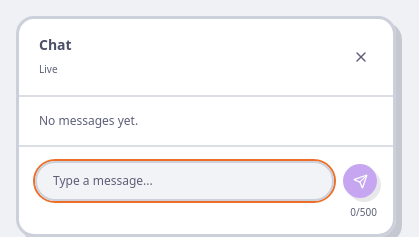
GroupChatOverlay › limits chat messages to the backend character limit
Expected: the text "0/500" is shown, [350,205,377,219]
Type "hello" into the field named "Chat message" at (184, 181), box [35,161,334,201]
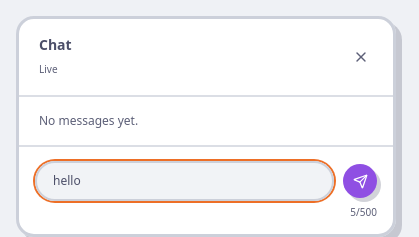
Expected: the text "5/500" is shown, [350,205,377,219]
